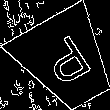P_SE: (35, 30, 97, 92)
